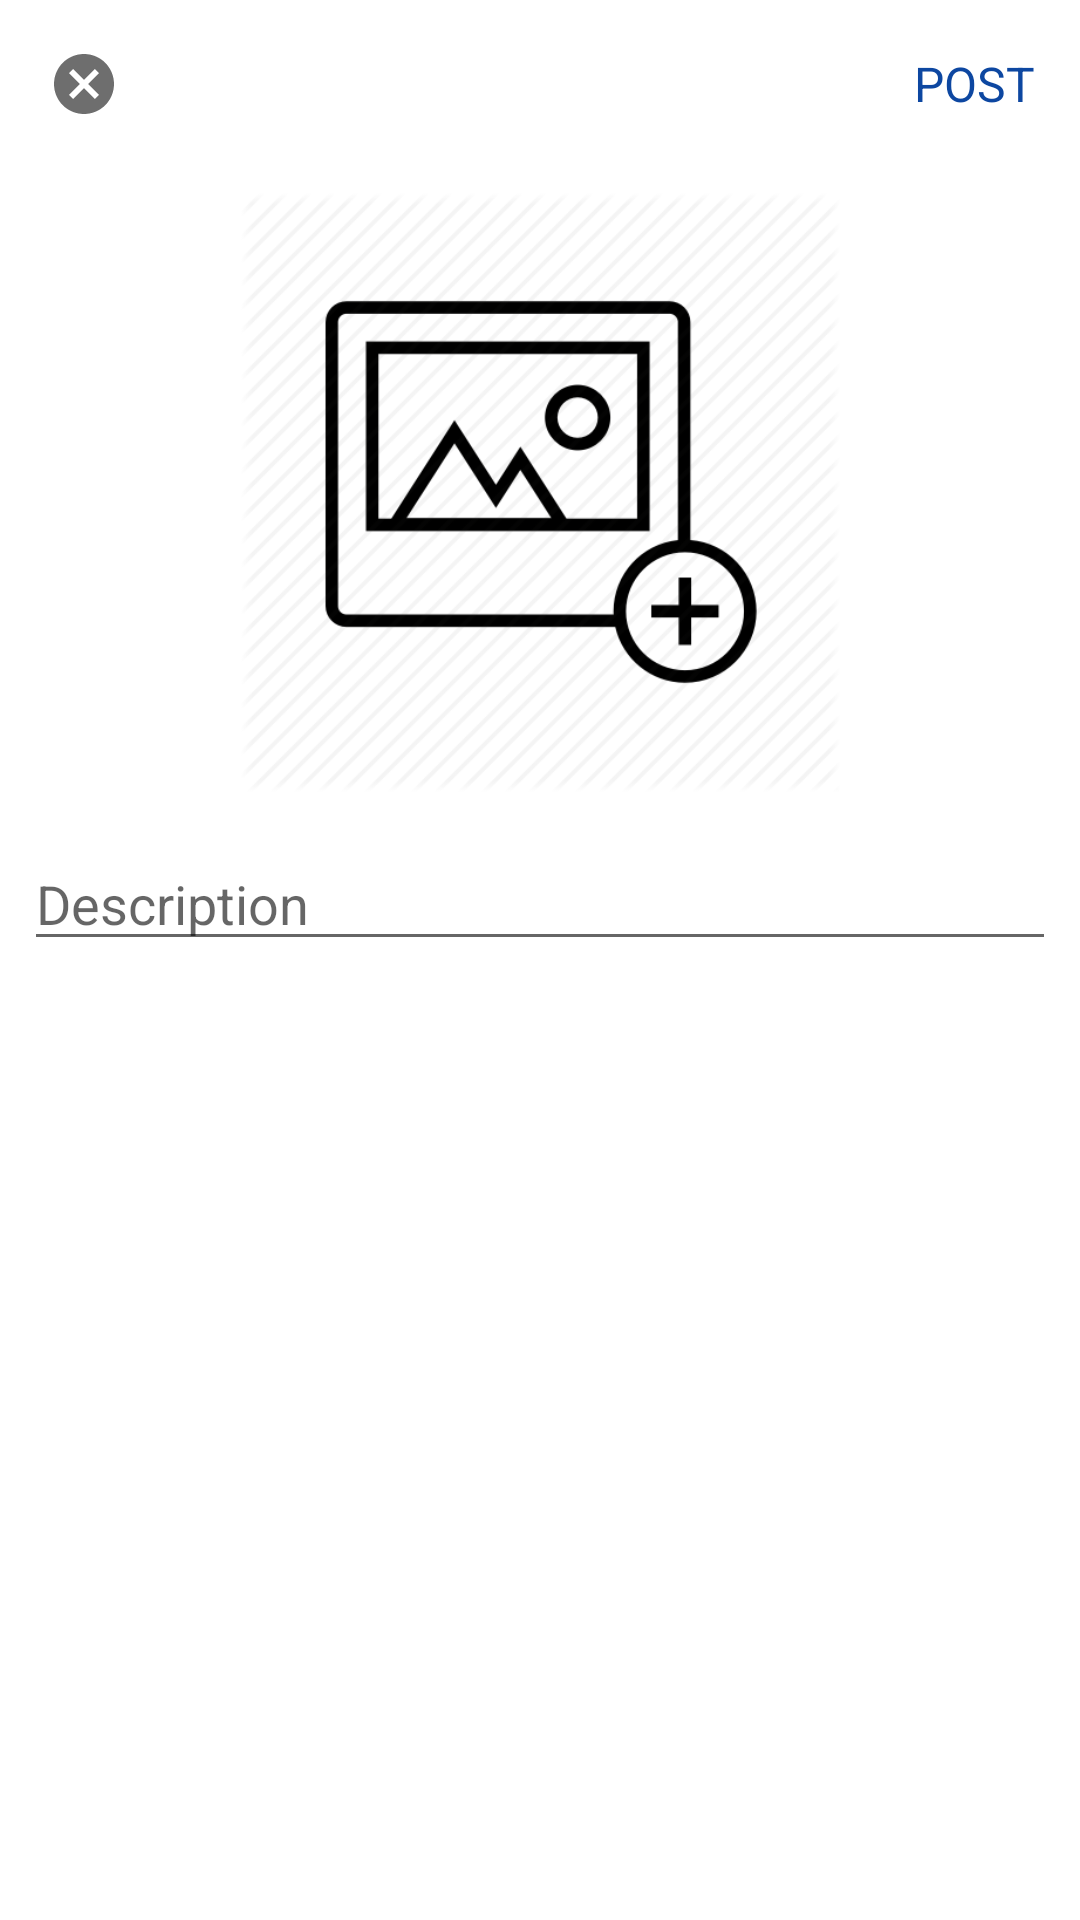

Icons on this 1080x1920 Android screen, each with its box as [x1,y1,x2,y2]:
cancel: [54,54,114,114]
